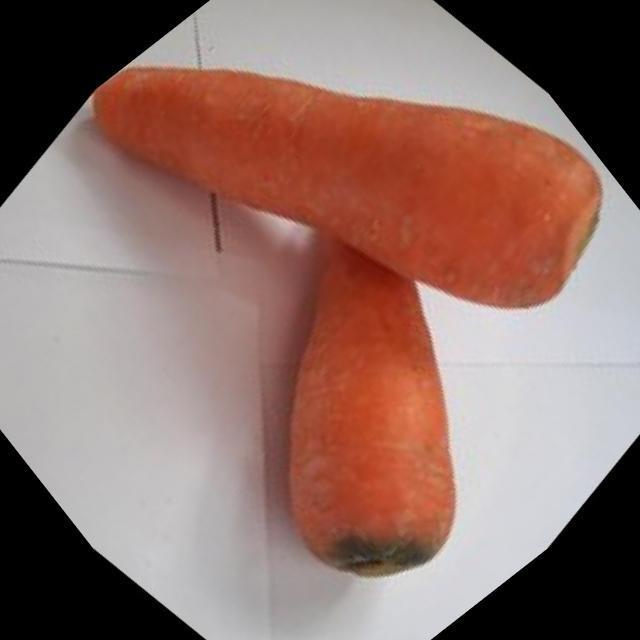carrot: (94, 68, 601, 307), (290, 239, 455, 576)
